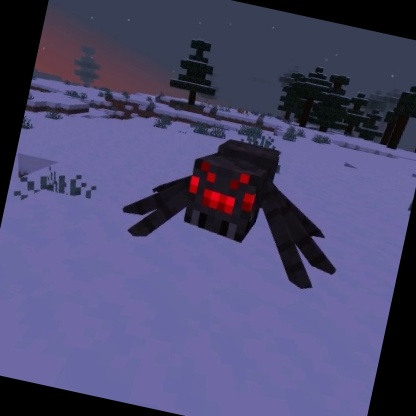spider: (109, 115, 361, 300)
